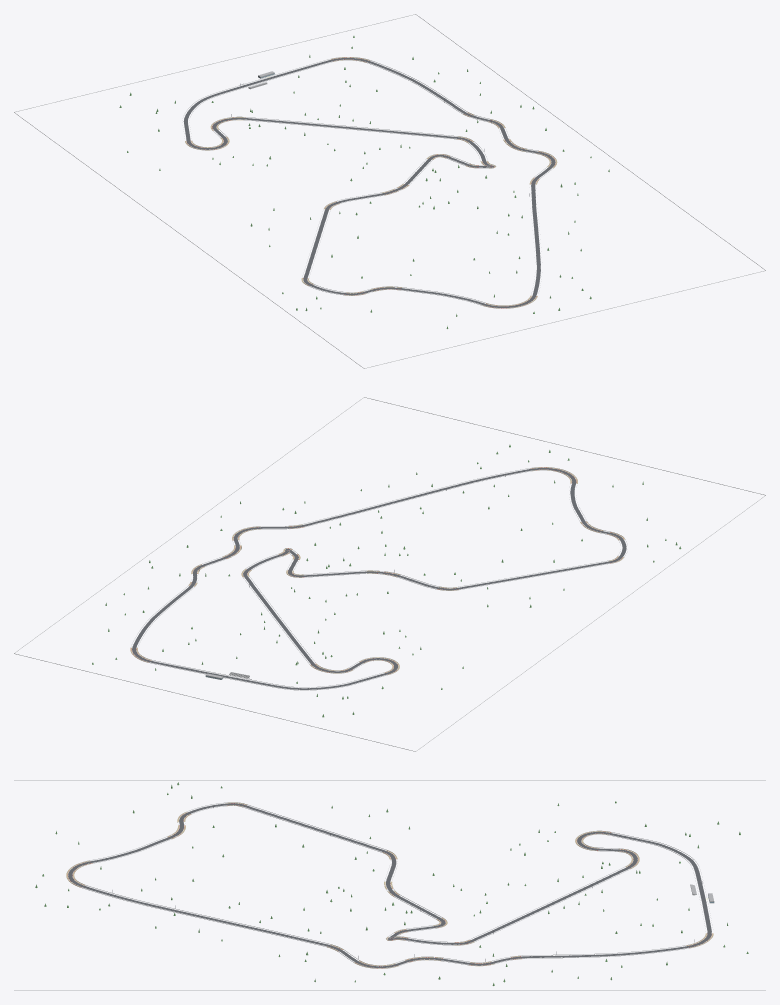
File: silverstone.glb
3 renders of one model, top to bottom at view 1: azimuth 30°, elevation 25°; view 2: azimuth 150°, elevation 25°; view 3: azimuth 270°, elevation 25°, orthographic. The views are drawn at different scales.
Visible parts, largest first — view 1: silverstone.tarmac, silverstone.barrier, silverstone.gravel, silverstone.foliage; view 2: silverstone.tarmac, silverstone.barrier, silverstone.gravel, silverstone.foliage; view 3: silverstone.tarmac, silverstone.barrier, silverstone.gravel, silverstone.foliage.
Part boxes in pixels (x1,y1,x2,y2): silverstone.tarmac: [183, 58, 555, 307]; silverstone.barrier: [14, 14, 765, 368]; silverstone.gravel: [185, 57, 557, 308]; silverstone.foliage: [119, 36, 609, 328]; silverstone.tarmac: [132, 468, 626, 689]; silverstone.barrier: [14, 397, 765, 751]; silverstone.gravel: [130, 467, 624, 674]; silverstone.foliage: [92, 445, 681, 717]; silverstone.tarmac: [68, 803, 711, 967]; silverstone.barrier: [14, 780, 765, 990]; silverstone.gravel: [66, 802, 713, 968]; silverstone.foliage: [35, 782, 748, 985].
Bounding box in the file's own units: 1328 × 12.5 × 2004.
